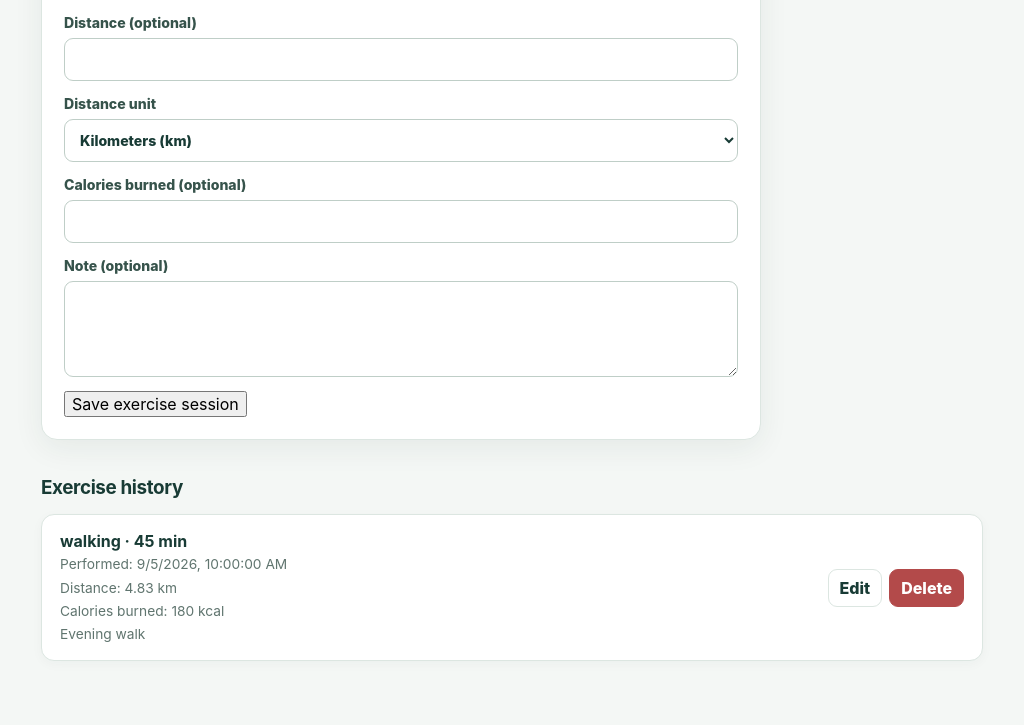
ExercisePage › displays an entered session and deletes it
(page scrolled)
Expected: the text "walking · 45 min" is shown, left=60, top=531, right=187, bottom=551
Expected: the text "Calories burned: 180 kcal" is shown, left=60, top=603, right=224, bottom=619
Step 1. Click the button "Delete" → x=927, y=588, box left=889, top=569, right=964, bottom=607
(page scrolled)
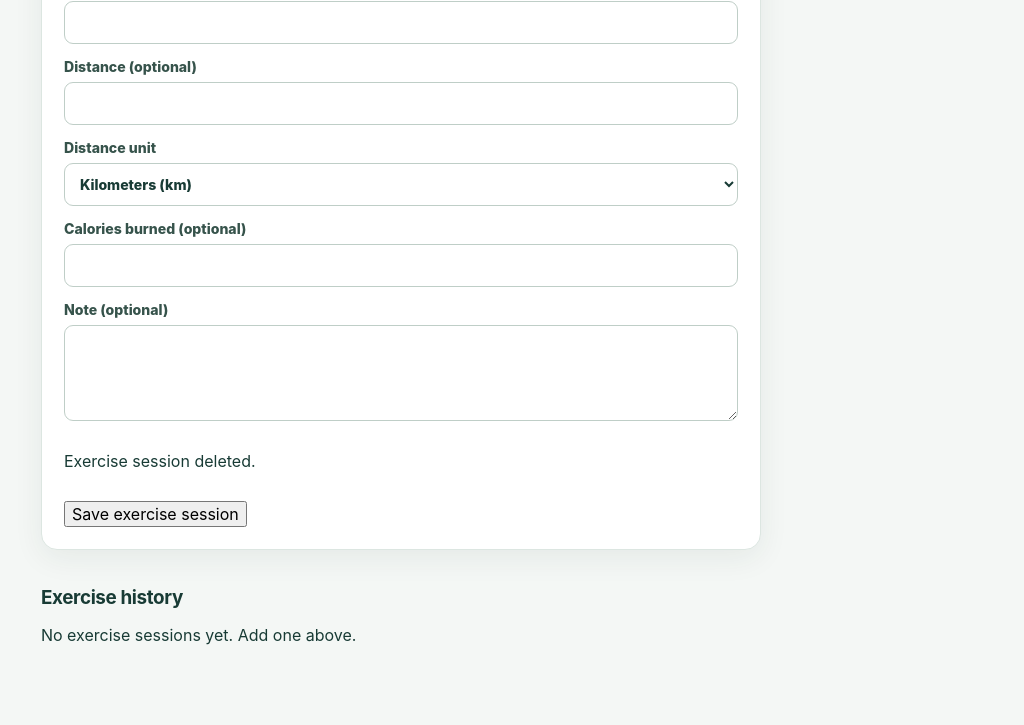
Expected: the text "Exercise session deleted." is shown, left=64, top=451, right=256, bottom=471
